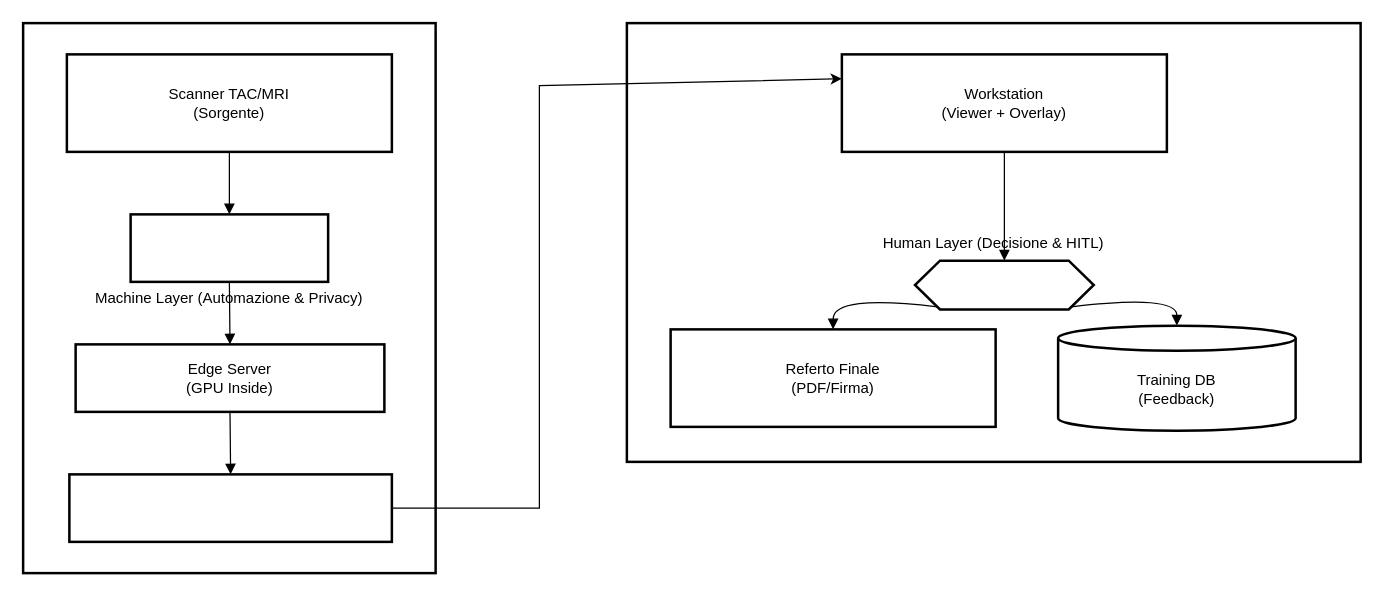
Image size: 1383x595. Some labels were removed from this diagram. Here are the shapes that lost their labels. From the top down, the box of each, then its label:
(129, 212, 329, 282): Switch Locale
(913, 259, 1094, 310): Medico (HITL)
(68, 472, 392, 542): Modello AI (Segmentation)
